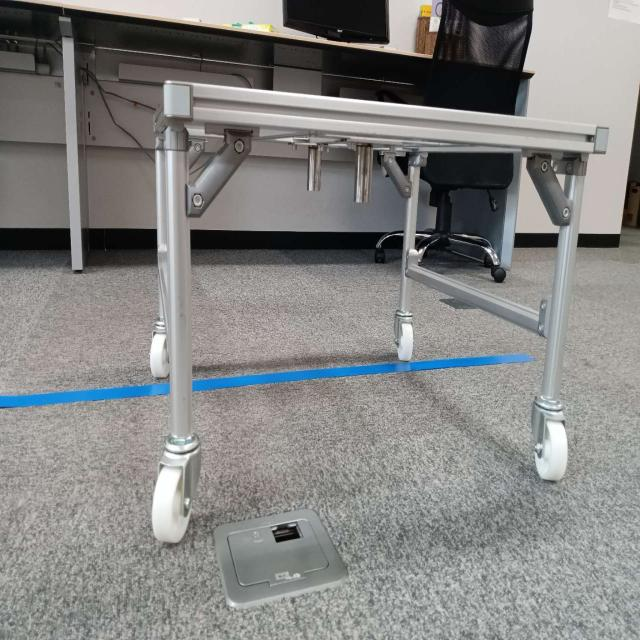door: (162, 79, 584, 239)
